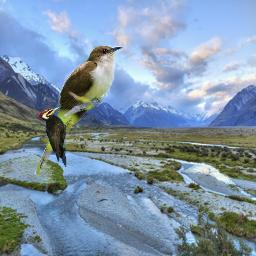Cuckoo: (34, 44, 123, 176)
Woodpecker: (36, 106, 72, 167)
